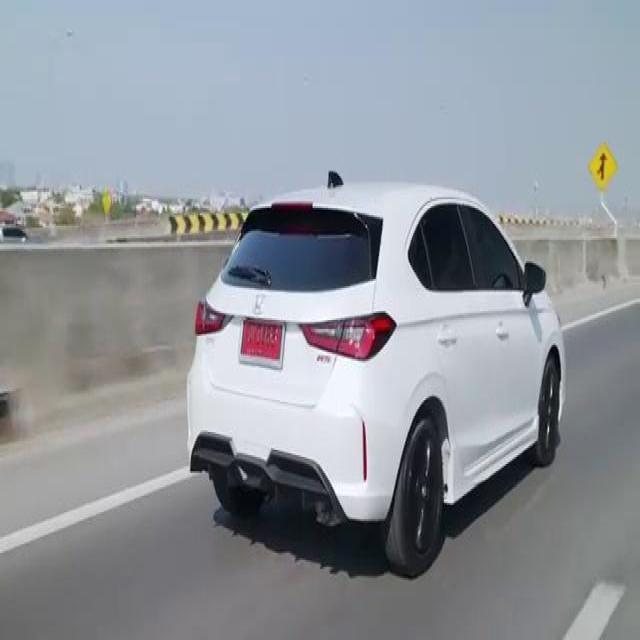Hatchback: (187, 171, 565, 576)
